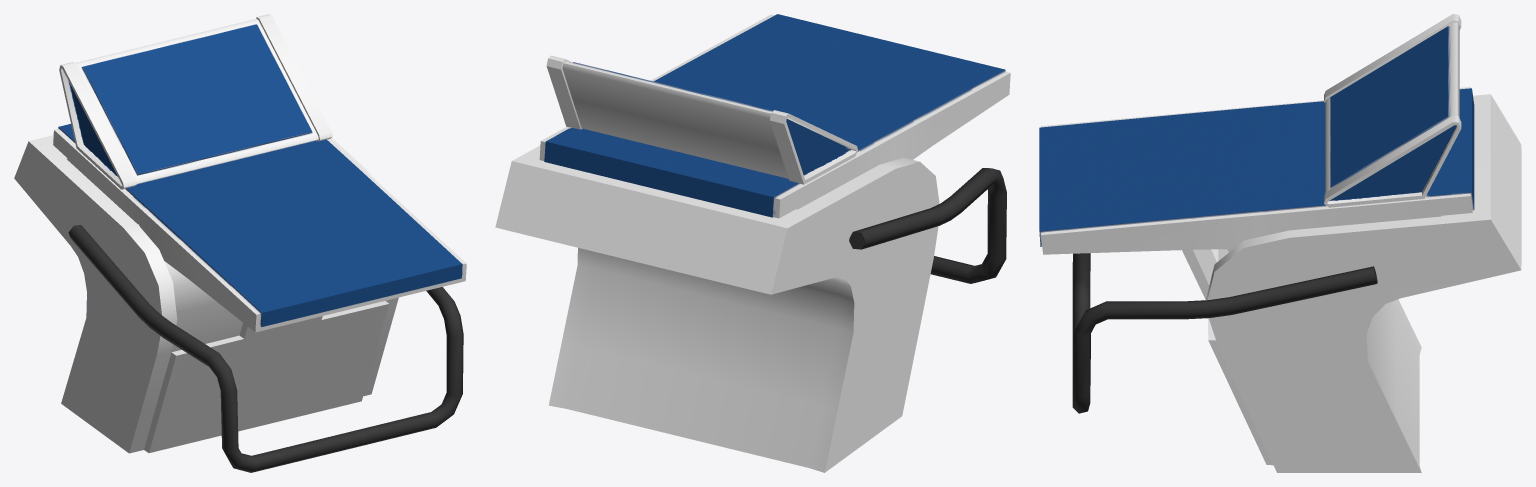
Rendered from WS_trampoline.FBX.
The picture shows the model from 3 angles, left to right: view 1: azimuth 30°, elevation 25°; view 2: azimuth 150°, elevation 25°; view 3: azimuth 270°, elevation 25°; orthographic projection. The views are drawn at different scales.
Visible parts, largest first — view 1: trampoline; view 2: trampoline; view 3: trampoline.
Part boxes in pixels (x1,y1,x2,y2): trampoline: [14, 14, 466, 472]; trampoline: [495, 14, 1010, 472]; trampoline: [1039, 14, 1521, 472].
Size of the model in its own units: 27.77 by 31.54 by 40.28.
Materials: 1 (1 with a texture image).
